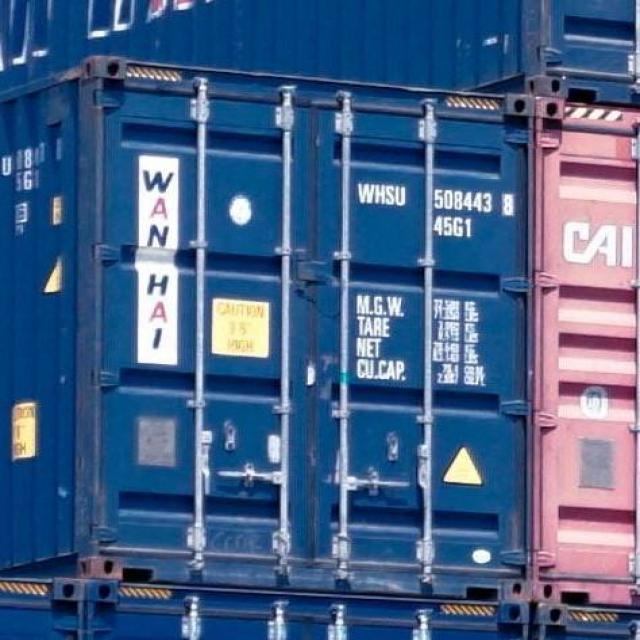ISO: (436, 216, 474, 238)
container_number: (364, 188, 516, 214)
